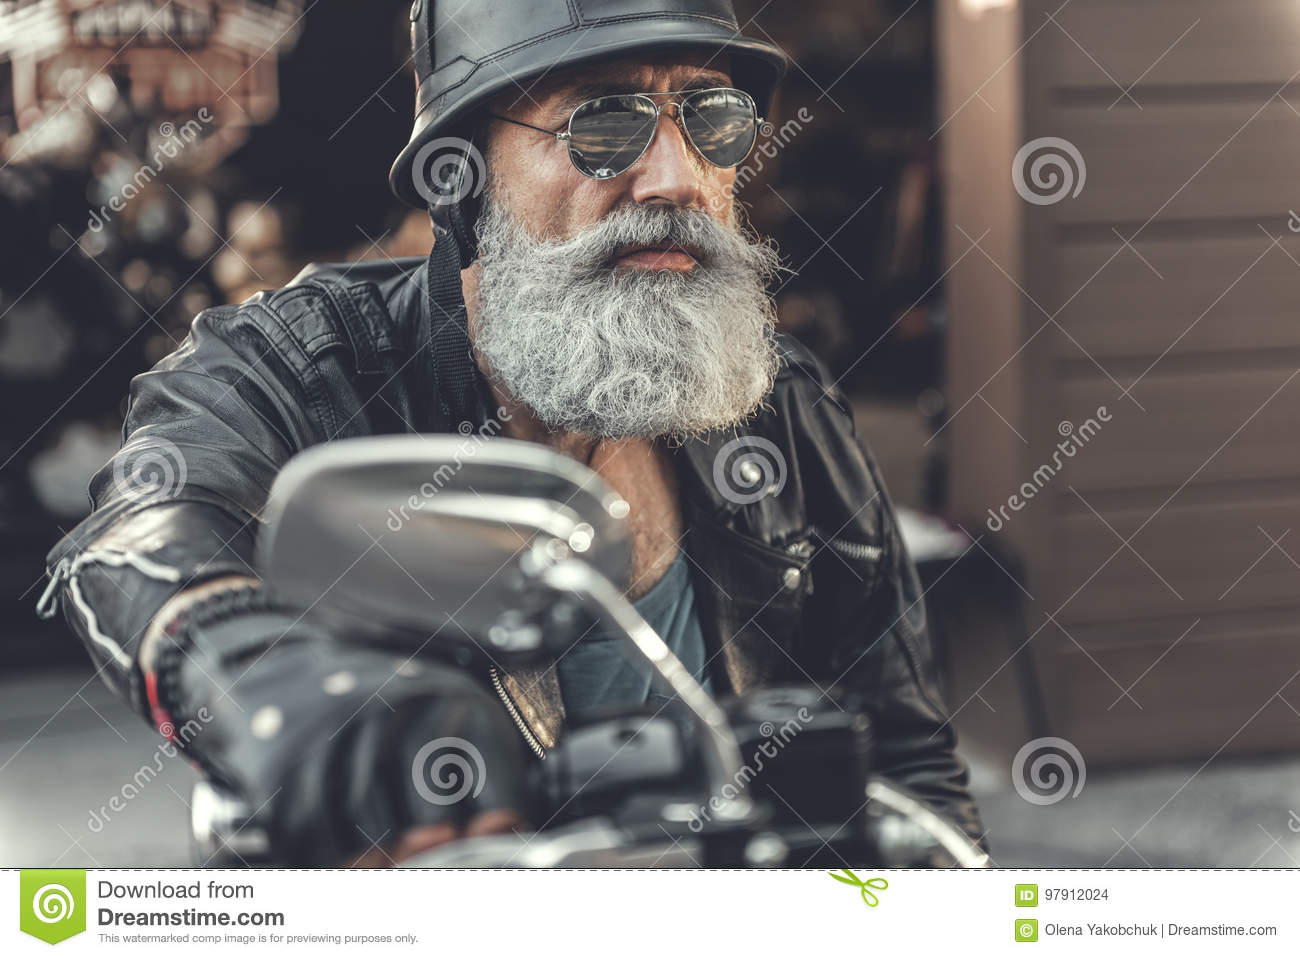helmet: (393, 4, 811, 151)
